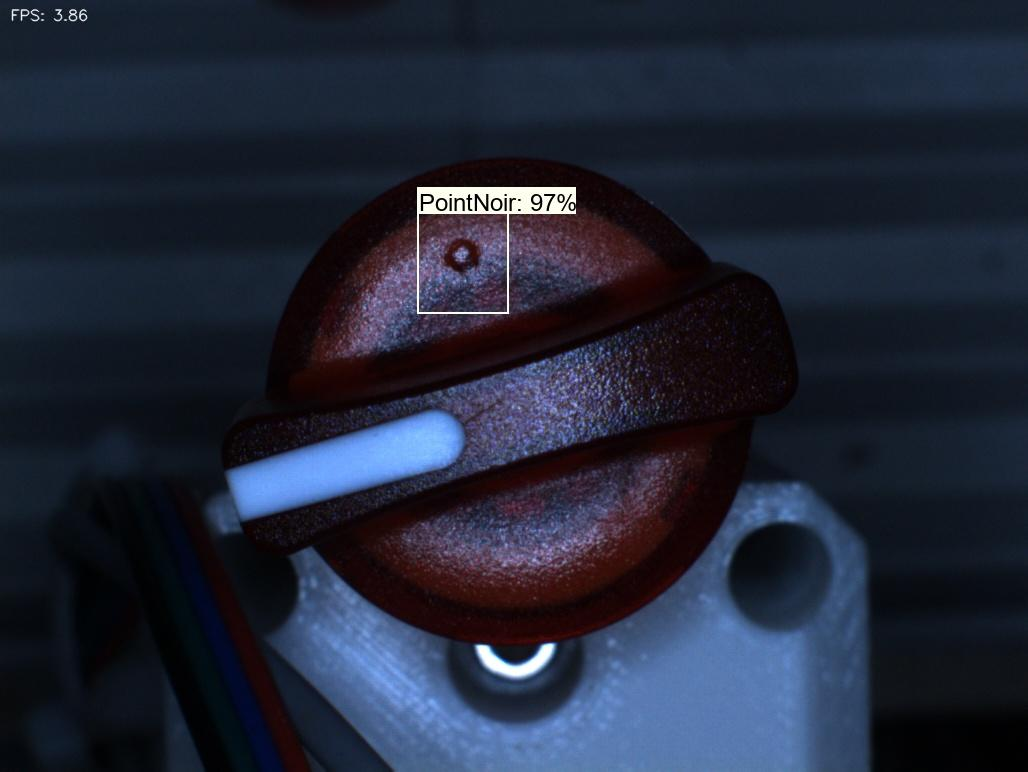Choc: (406, 214, 500, 294)
